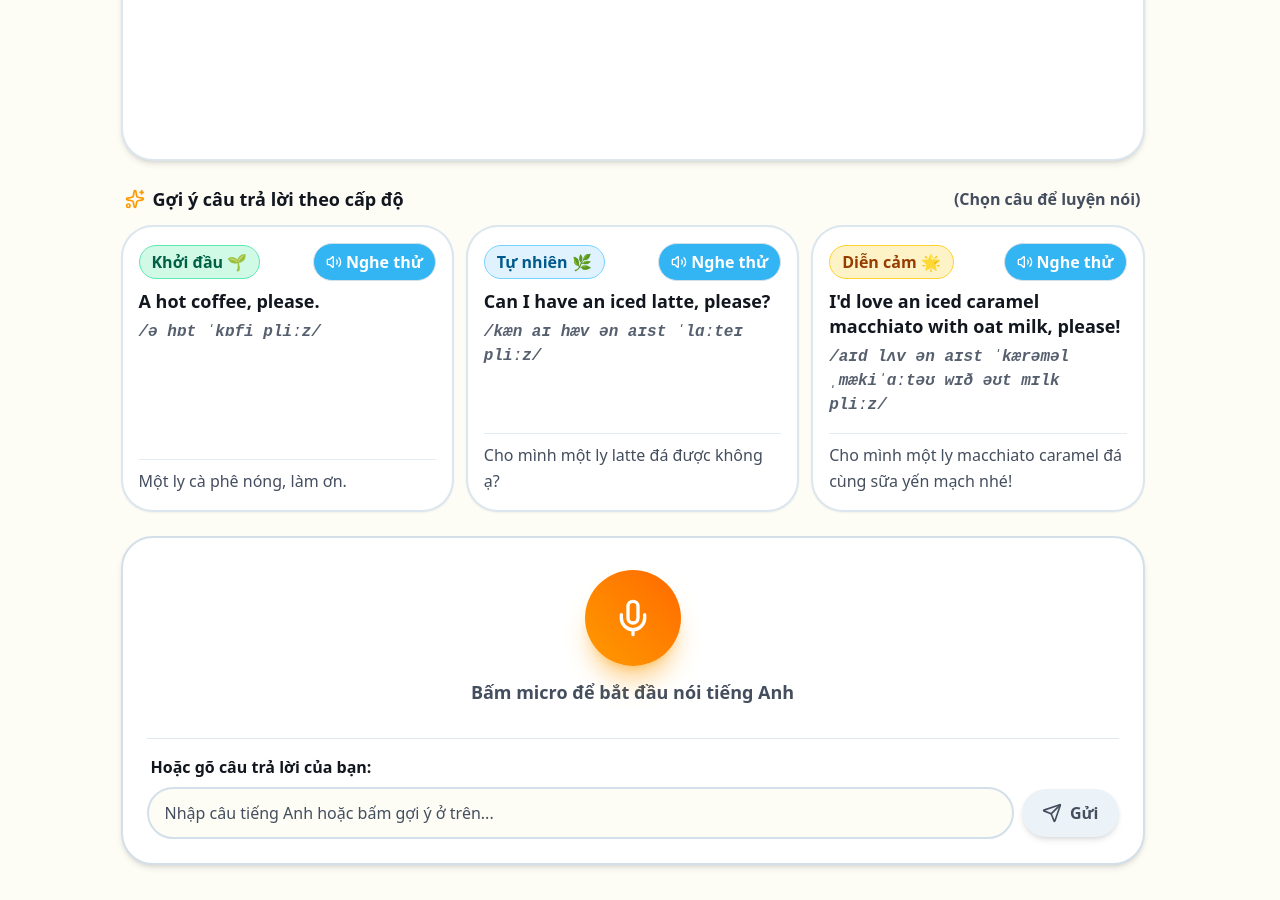
Test: SpeakingArena Component › populates text input when user clicks a scaffolding hint
(page scrolled)
Click the button with test id "hint-starter": (199, 262) [120,225,454,512]
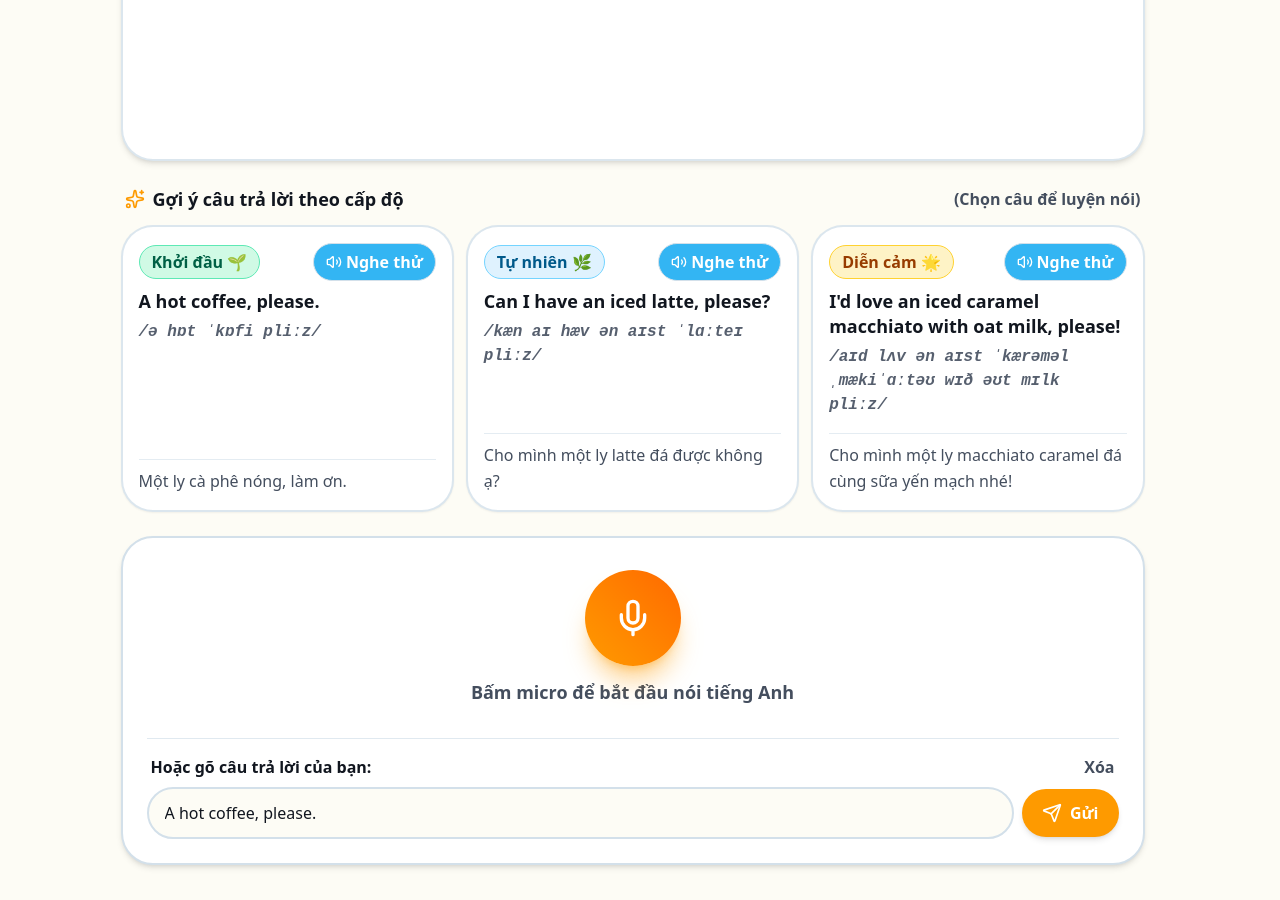
Now the field with test id "text-input-fallback" holds "A hot coffee, please.", box [146,786,1014,838]
